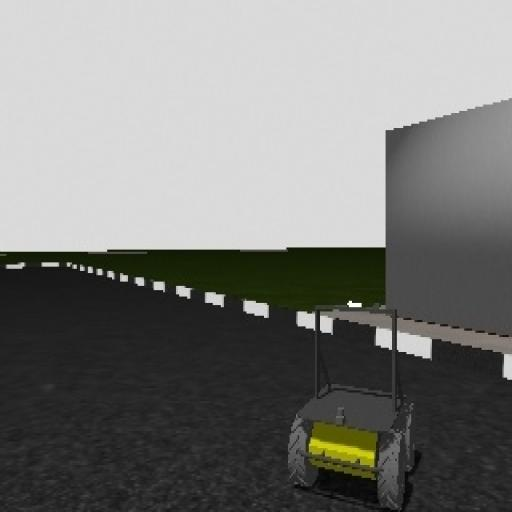huskya200: (276, 278, 422, 510)
